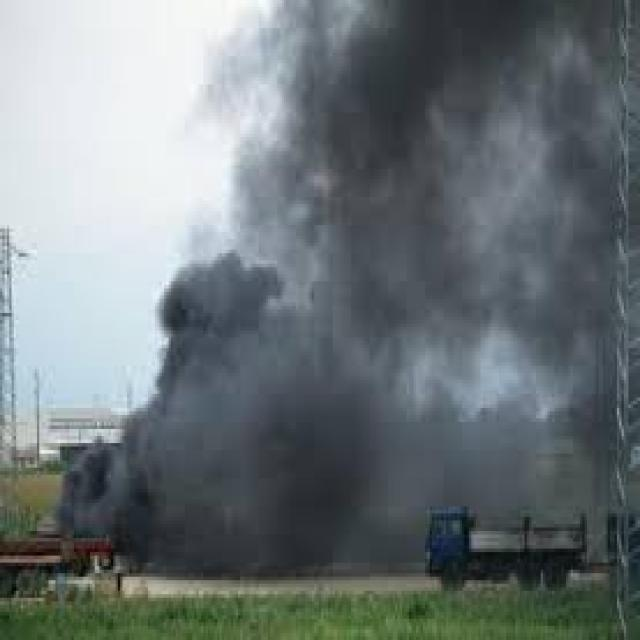Smoke: (57, 0, 622, 582)
